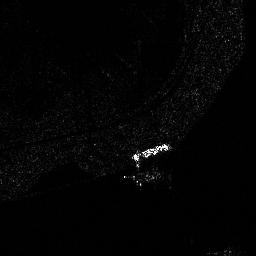ship: (131, 143, 172, 162)
